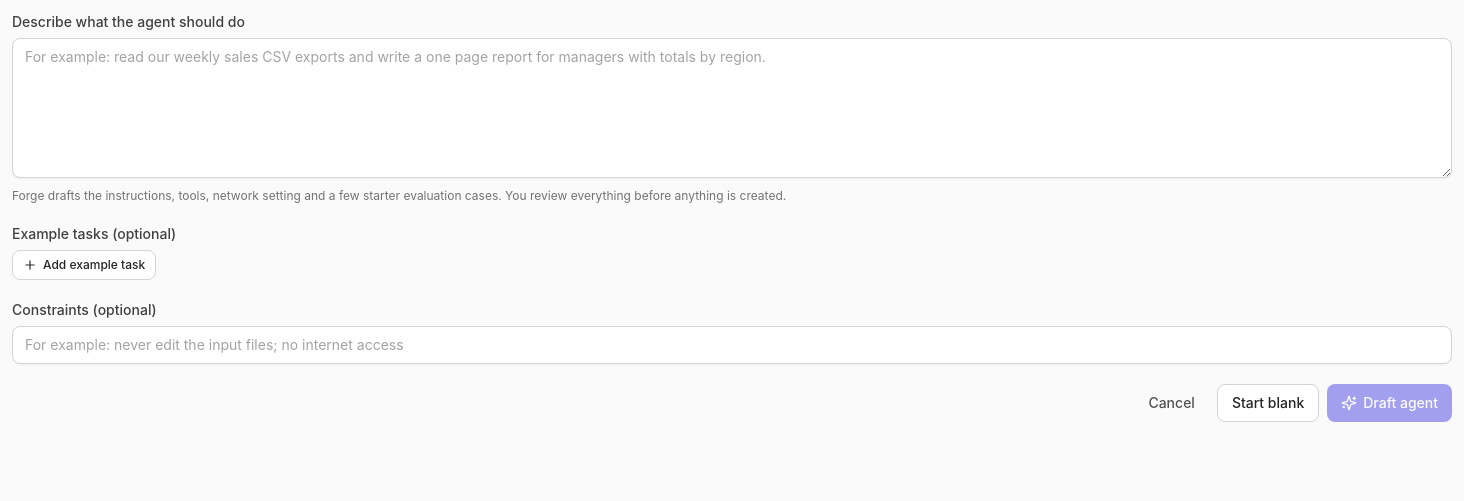
Test: NewAgentForm describe step › shows the server error and stays on the describe step
Type "x" into the text box labelled "Describe what the agent should do" at x=732, y=108, box [12, 38, 1452, 178]
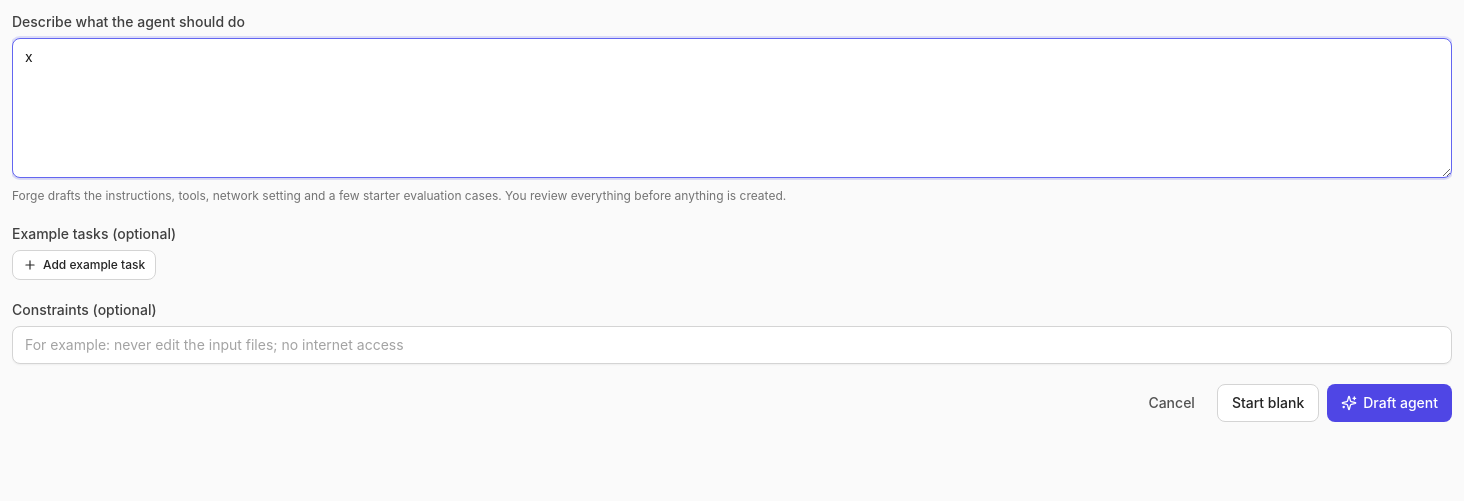
Click the button "Draft agent" at x=1390, y=403, box [1327, 384, 1452, 422]
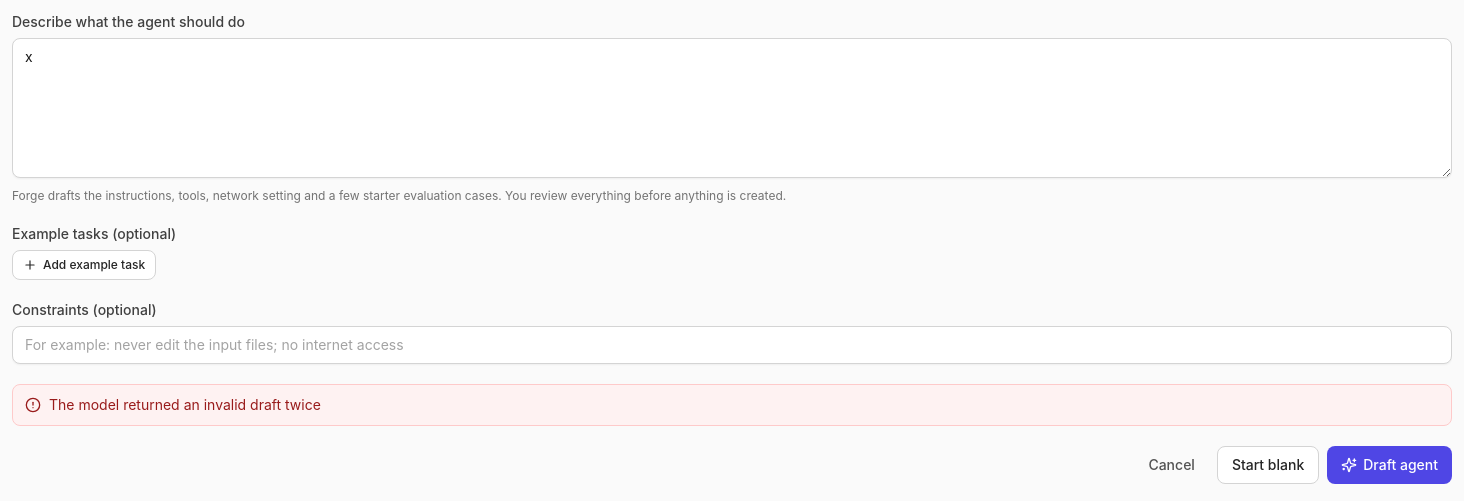
Result: the button "Draft agent" is enabled at [1327, 446, 1452, 484]
Result: the text "The model returned an invalid draft twice" is shown at [49, 396, 321, 413]
